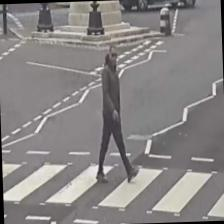person: (90, 44, 138, 182)
